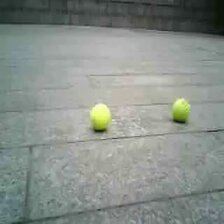tennis: (90, 104, 111, 131), (171, 98, 190, 123)
